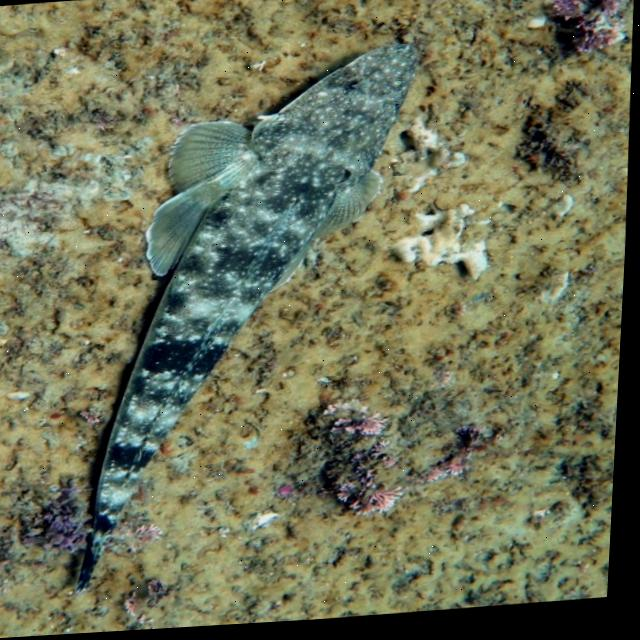Flathead: (39, 27, 448, 602)
